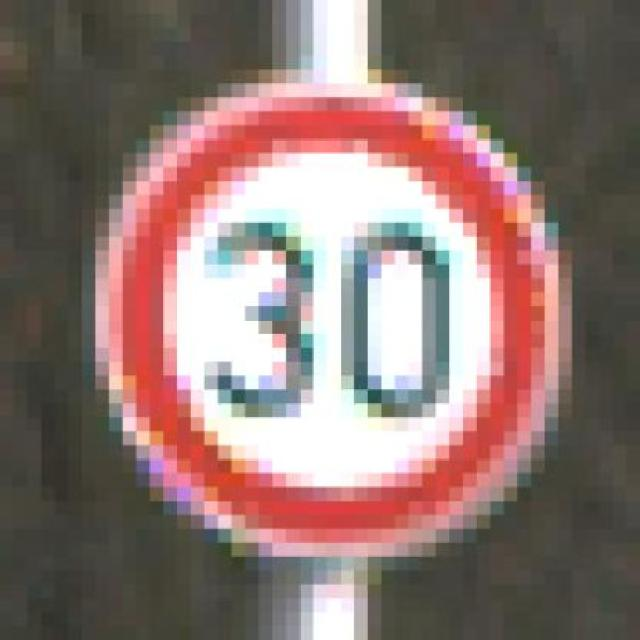Speed Limit 30 KMPh: (55, 56, 599, 584)
